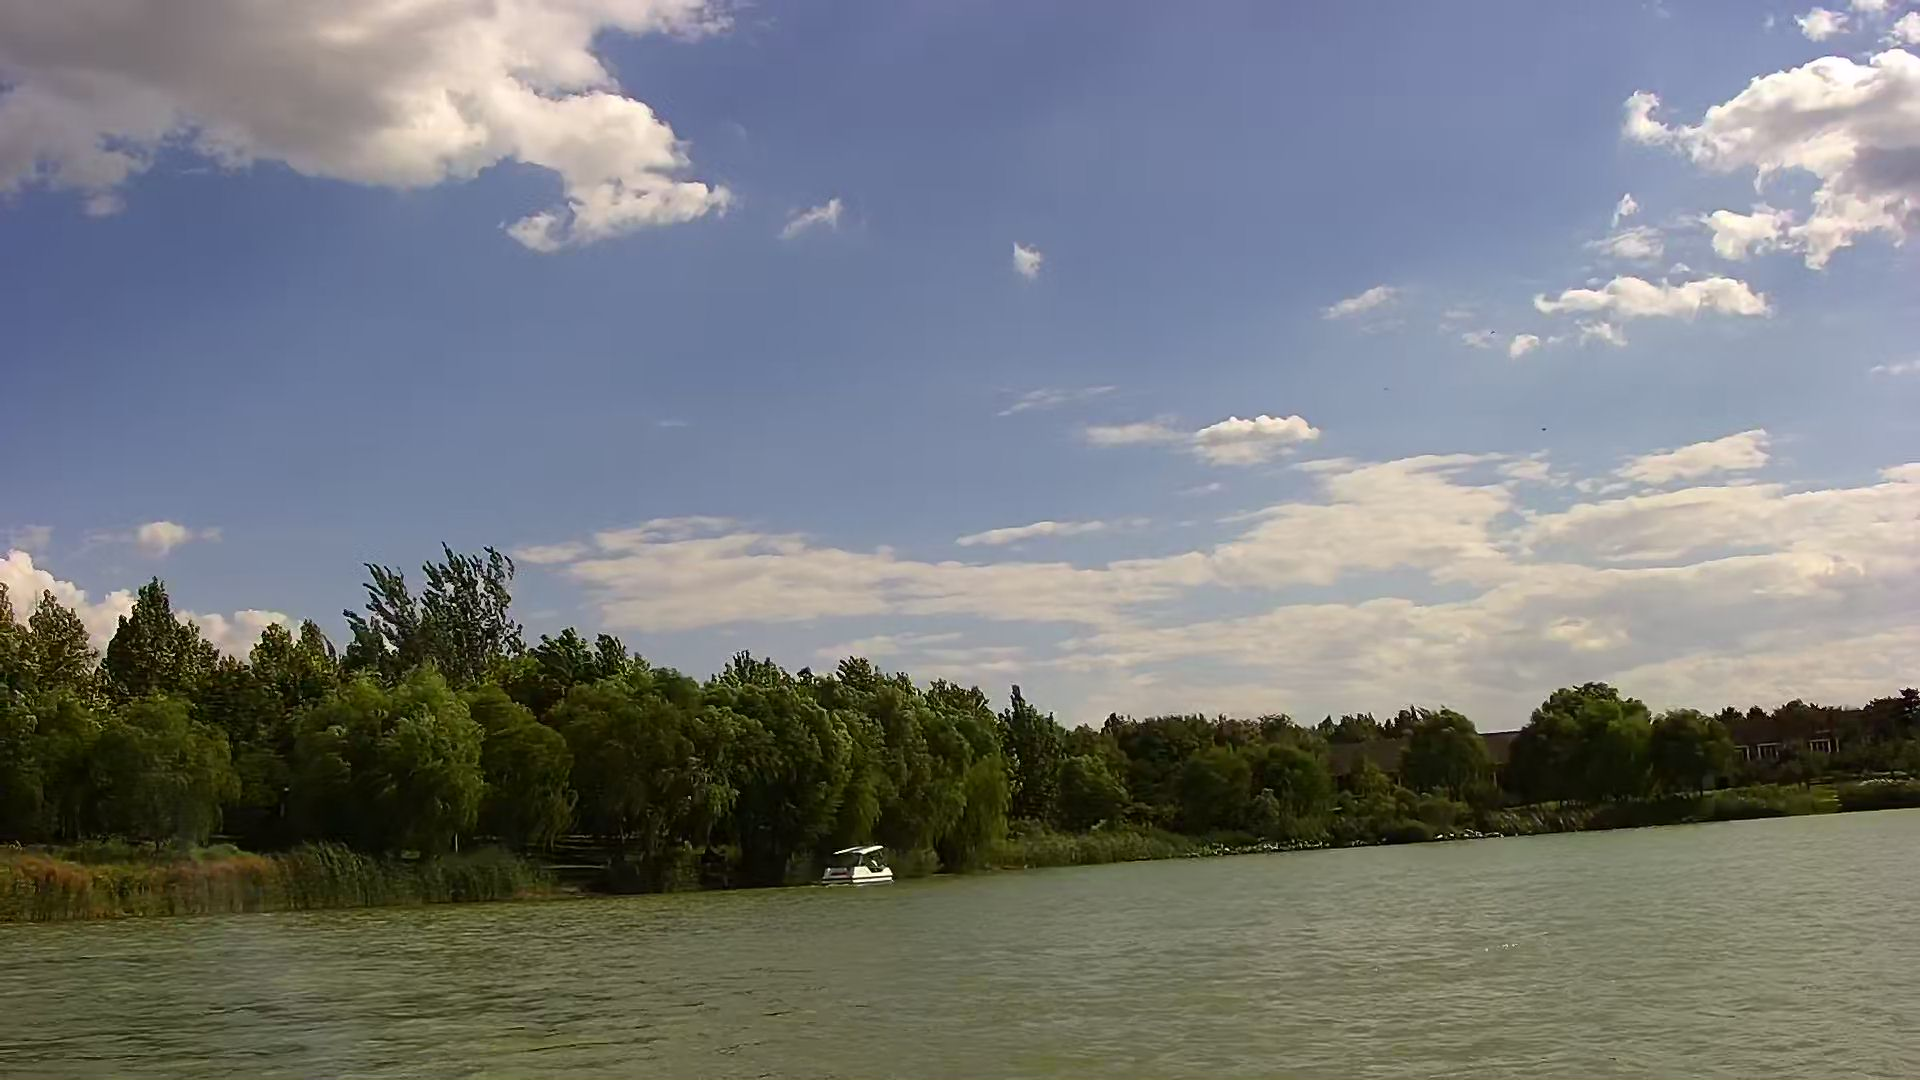boat: (819, 843, 891, 882)
